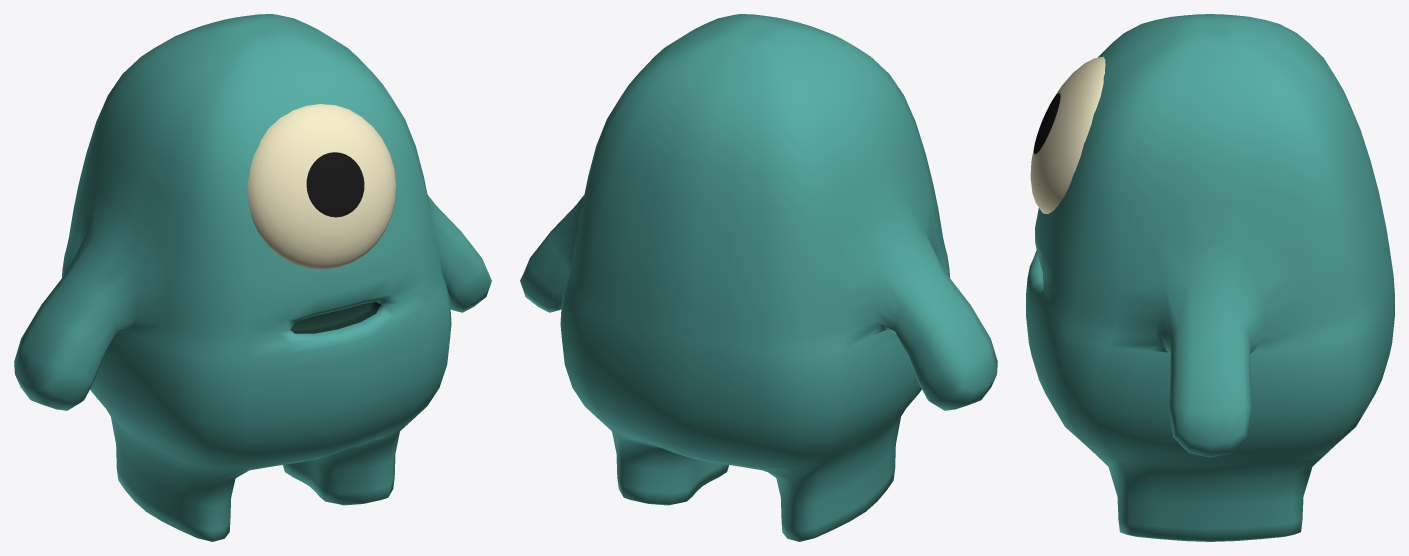
The model's file is 4. karakter.fbx.
The picture shows the model from 3 angles, left to right: view 1: azimuth 30°, elevation 25°; view 2: azimuth 150°, elevation 25°; view 3: azimuth 270°, elevation 25°; orthographic projection.
Visible parts, largest first — view 1: Cube, Sphere; view 2: Cube; view 3: Cube, Sphere.
Part boxes in pixels (x1=…): Cube: x1=14, y1=14, x2=491, y2=541; Sphere: x1=247, y1=104, x2=396, y2=269; Cube: x1=520, y1=14, x2=997, y2=541; Cube: x1=1026, y1=14, x2=1394, y2=541; Sphere: x1=1030, y1=56, x2=1105, y2=213.
Size of the model in its own units: 372 by 364 by 256.
